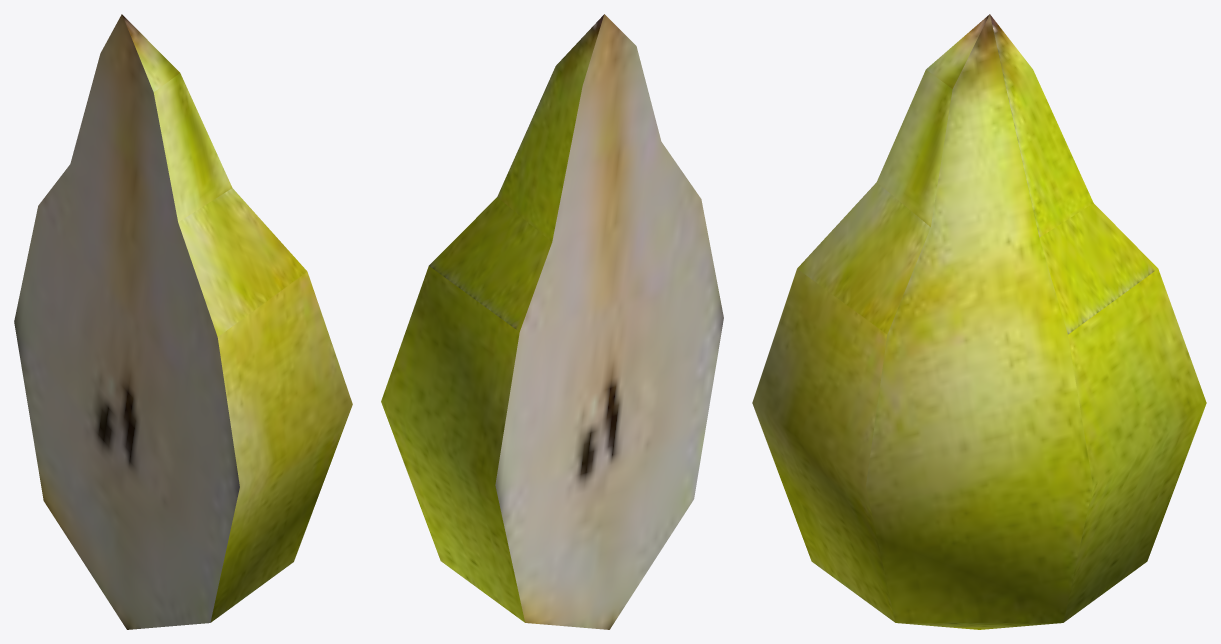
File: Pear_01.glb
3 renders of one model, left to right at view 1: azimuth 30°, elevation 25°; view 2: azimuth 150°, elevation 25°; view 3: azimuth 270°, elevation 25°, orthographic.
Visible parts, largest first — view 1: Pear_01; view 2: Pear_01; view 3: Pear_01.
Part boxes in pixels (bbox=[...]): Pear_01: bbox=[14, 14, 352, 629]; Pear_01: bbox=[381, 14, 723, 629]; Pear_01: bbox=[752, 14, 1206, 629].
Size of the model in its own units: 0.0595 by 0.2056 by 0.1375.
Materials: 1 (1 with a texture image).
